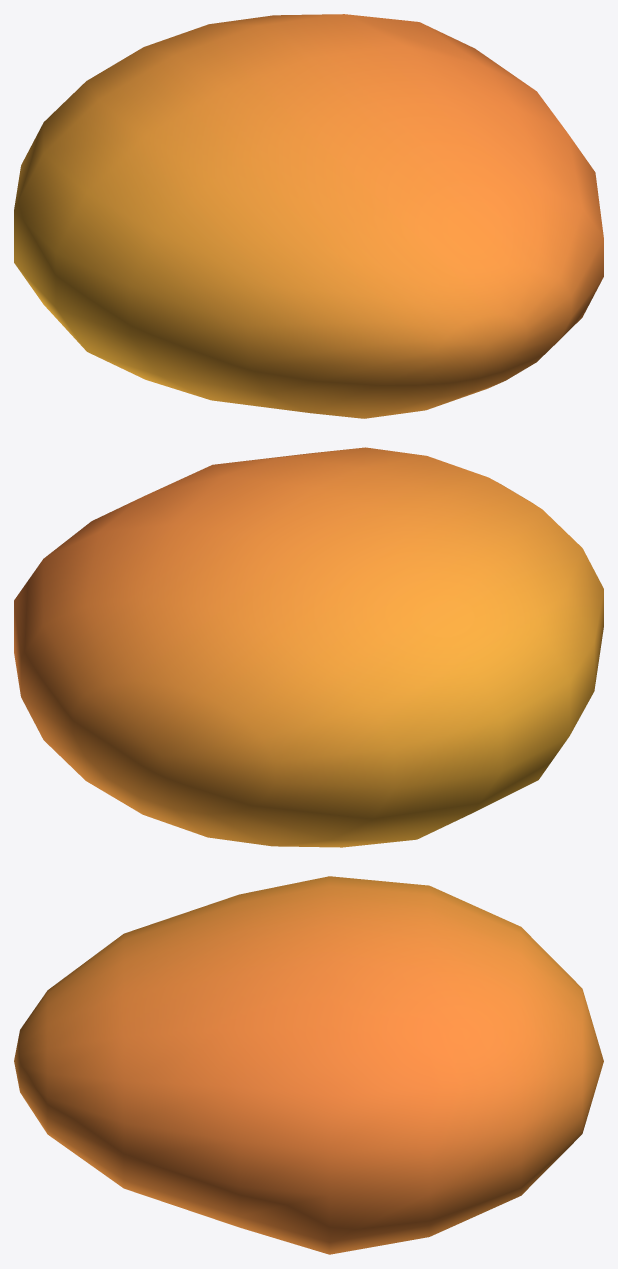
Rendered from Topaz.fbx.
The picture shows the model from 3 angles, top to bottom: view 1: azimuth 30°, elevation 25°; view 2: azimuth 150°, elevation 25°; view 3: azimuth 270°, elevation 25°; orthographic projection. The views are drawn at different scales.
Parts seen in each view (by area): view 1: TOPAZ.001; view 2: TOPAZ.001; view 3: TOPAZ.001.
Boxes of the visible parts, x1,y1,x2,y2 form: TOPAZ.001: (14,14,603,418); TOPAZ.001: (14,447,603,847); TOPAZ.001: (14,876,603,1254).
Bounding box in the file's own units: 210 × 125 × 232.
Materials: 1 (1 with a texture image).
